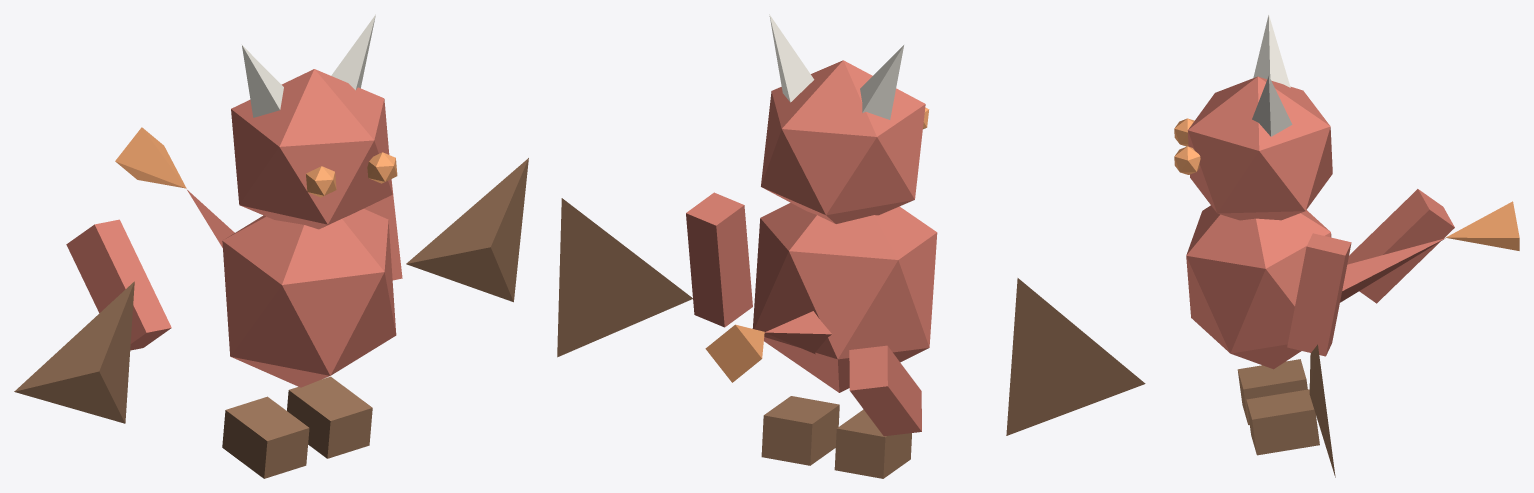
File: npcpose_imp_attack_05.glb
The picture shows the model from 3 angles, left to right: view 1: azimuth 30°, elevation 25°; view 2: azimuth 150°, elevation 25°; view 3: azimuth 270°, elevation 25°; orthographic projection. The views are drawn at different scales.
Visible parts, largest first — view 1: npcpose; view 2: npcpose; view 3: npcpose.
Boxes of the visible parts, x1,y1,x2,y2 form: npcpose: [14, 14, 528, 478]; npcpose: [557, 14, 1145, 478]; npcpose: [1174, 14, 1519, 477].
Bounding box in the file's own units: 1.44 × 1.07 × 0.8636.
